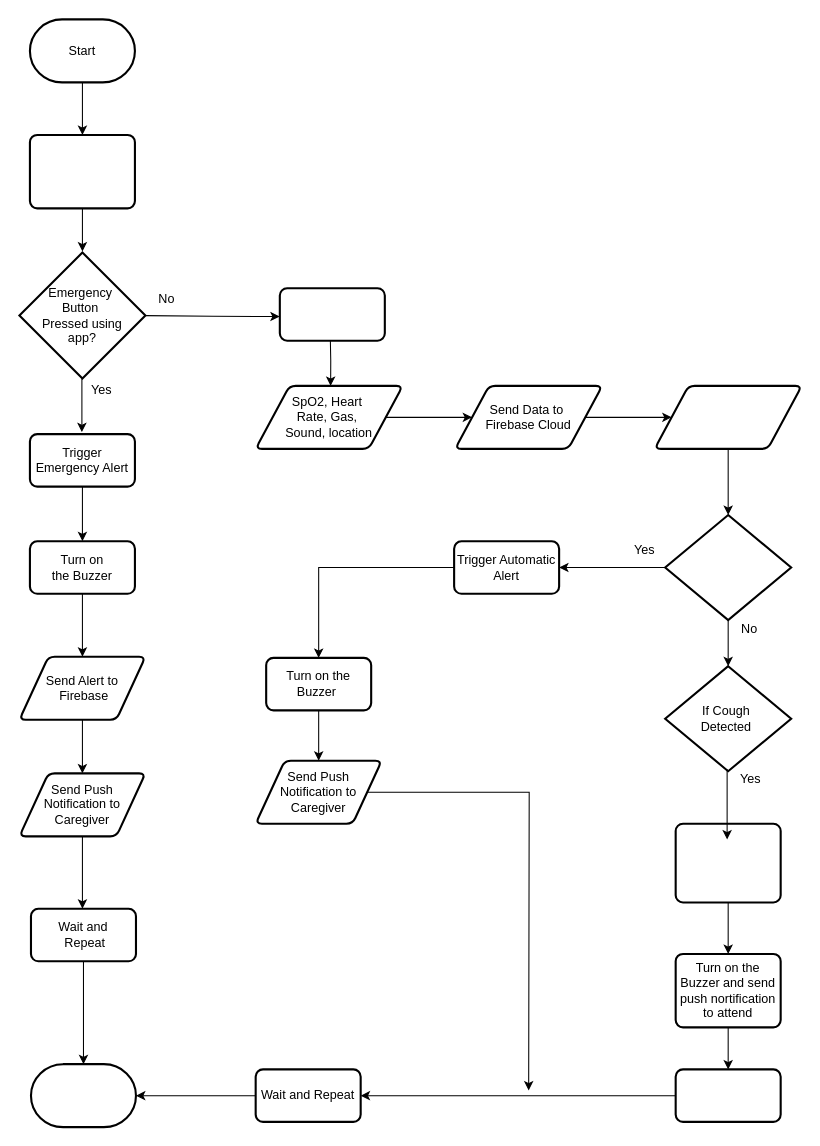
Image size: 820x1146. Some labels were removed from this diagram. Each missing label, with the centre of its shape:
Any Abnormal Conditions: (728,567)
Collect Sensor Data: (331,314)
Continue Monitoring: (727,1095)
Display Data on Mobile App: (727,416)
Initialize NodeMCU, Sensors, LEDs, Buzzer: (81,171)
Measure heart Rate, Vibration and Sound Through Sensors: (727,862)
Stop: (82,1095)
